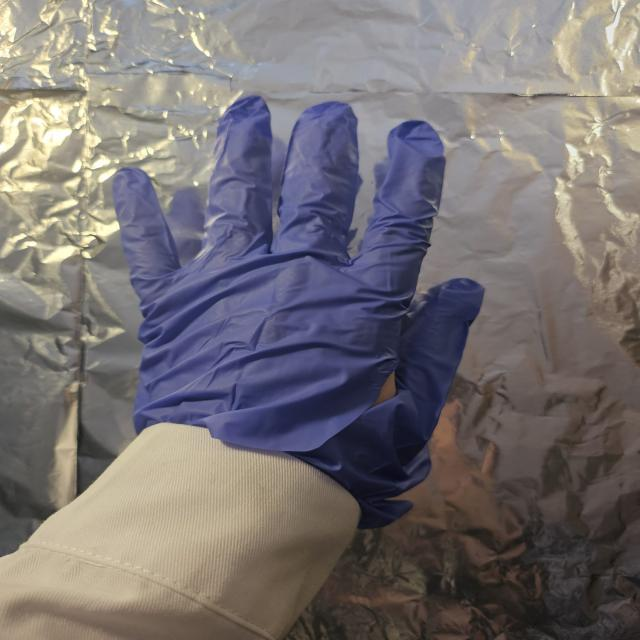gloves_damaged: (110, 94, 489, 527)
